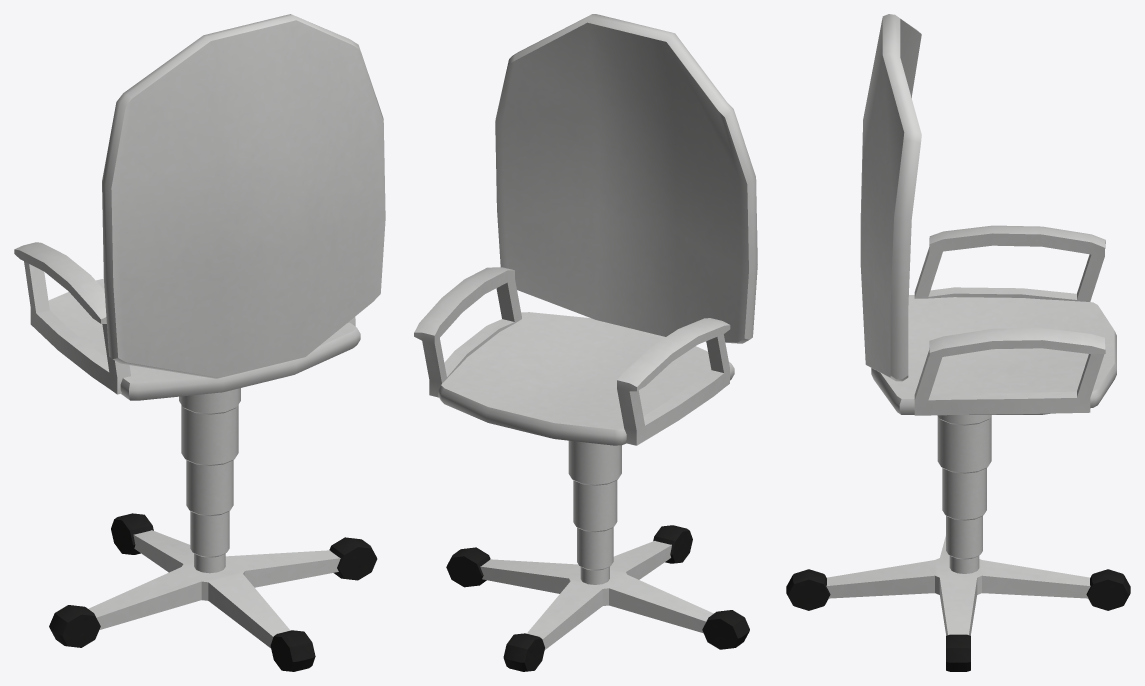
The model's file is Chair 1 white.fbx.
The picture shows the model from 3 angles, left to right: view 1: azimuth 30°, elevation 25°; view 2: azimuth 150°, elevation 25°; view 3: azimuth 270°, elevation 25°; orthographic projection. The views are drawn at different scales.
Parts seen in each view (by area): view 1: Chair_1_white; view 2: Chair_1_white; view 3: Chair_1_white.
Boxes of the visible parts, x1=… form: Chair_1_white: x1=14, y1=14, x2=385, y2=671; Chair_1_white: x1=414, y1=14, x2=757, y2=671; Chair_1_white: x1=786, y1=14, x2=1130, y2=671.
Bounding box in the file's own units: 0.2813 × 0.5167 × 0.2813.
